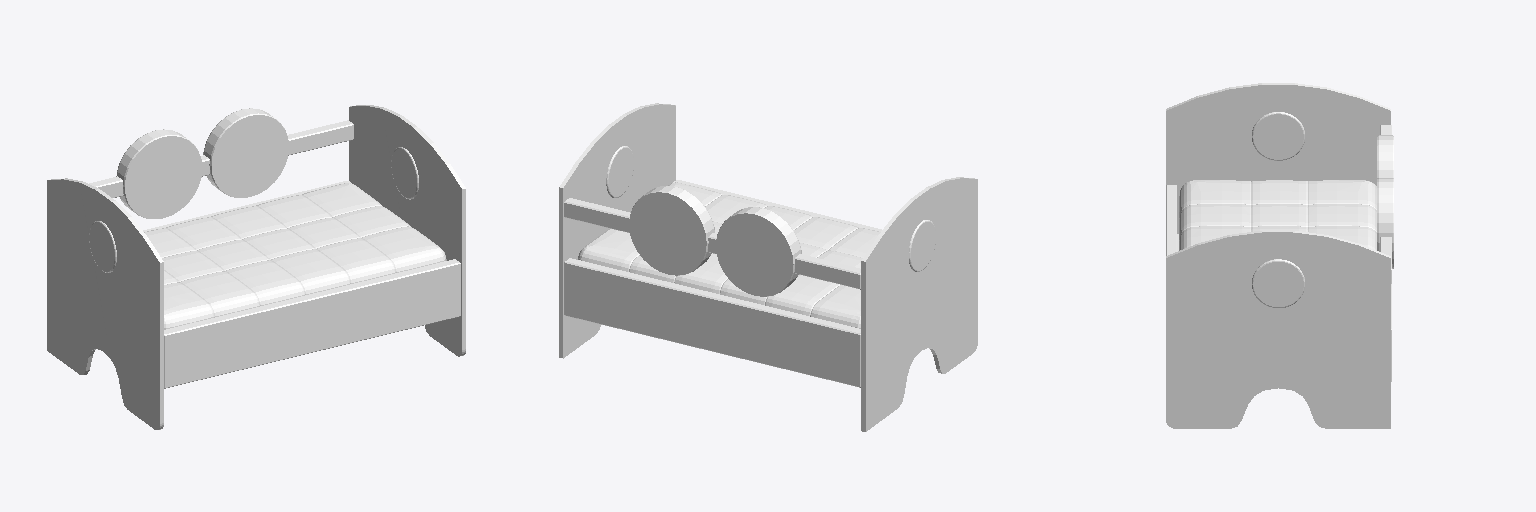
Rendered from child-bed.obj.
3 views of the same model, side by side, from view 1: azimuth 30°, elevation 25°; view 2: azimuth 150°, elevation 25°; view 3: azimuth 270°, elevation 25° (orthographic).
Parts seen in each view (by area): view 1: child-bed; view 2: child-bed; view 3: child-bed.
Boxes of the visible parts, box(x1,y1,x2,y2) form: child-bed: box(47, 105, 465, 429); child-bed: box(559, 103, 977, 431); child-bed: box(1166, 83, 1393, 428).
Bounding box in the file's own units: 2.16 × 1.31 × 1.38.